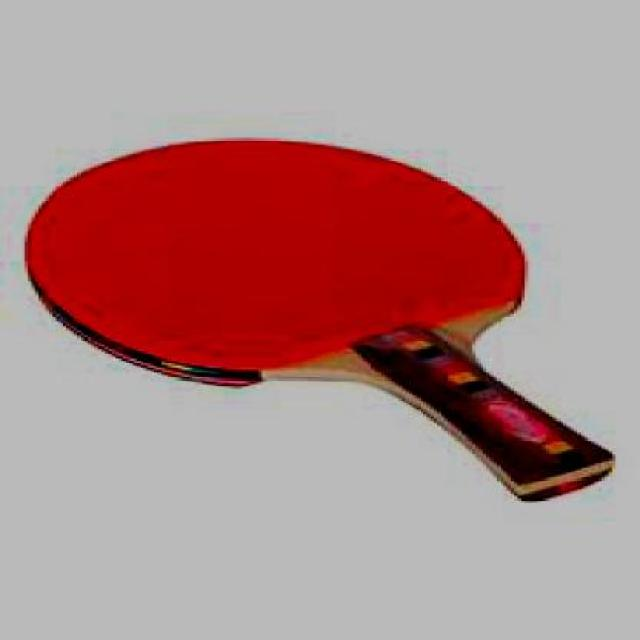table_tennis_racket: (28, 135, 540, 388)
